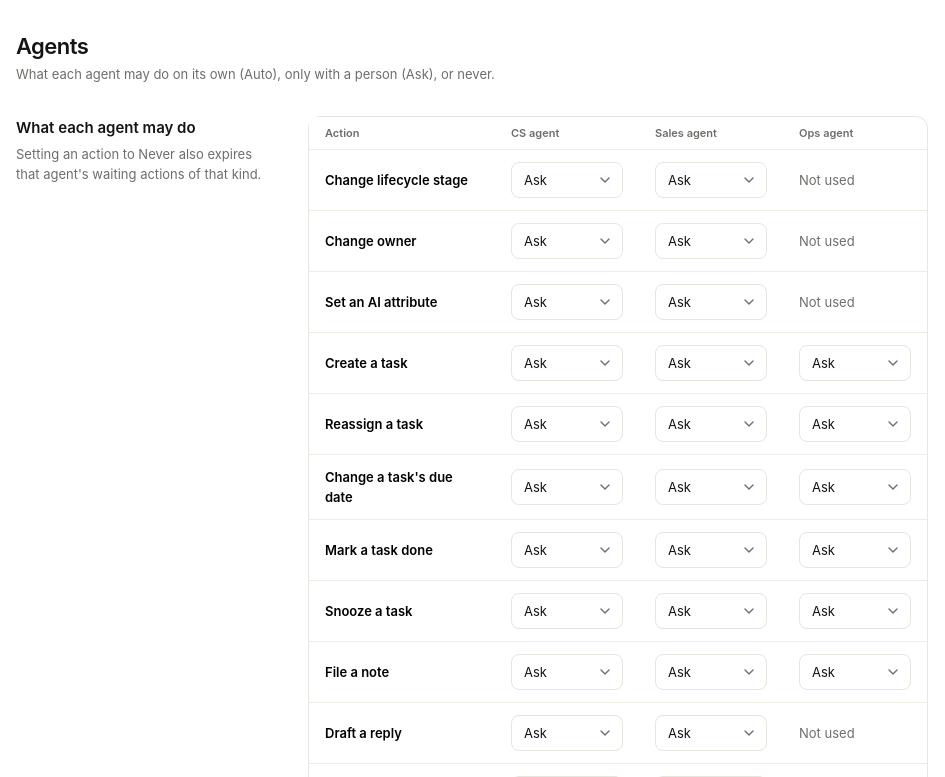
Scenario: Settings › Actions & approvals (spec §1.6, §1.8; Decision 6) › saves only the changed cells
Select "Auto" in the 1st dropdown named "Change lifecycle stage for the CS agent": (567, 180) [511,162,623,198]
(page scrolled)
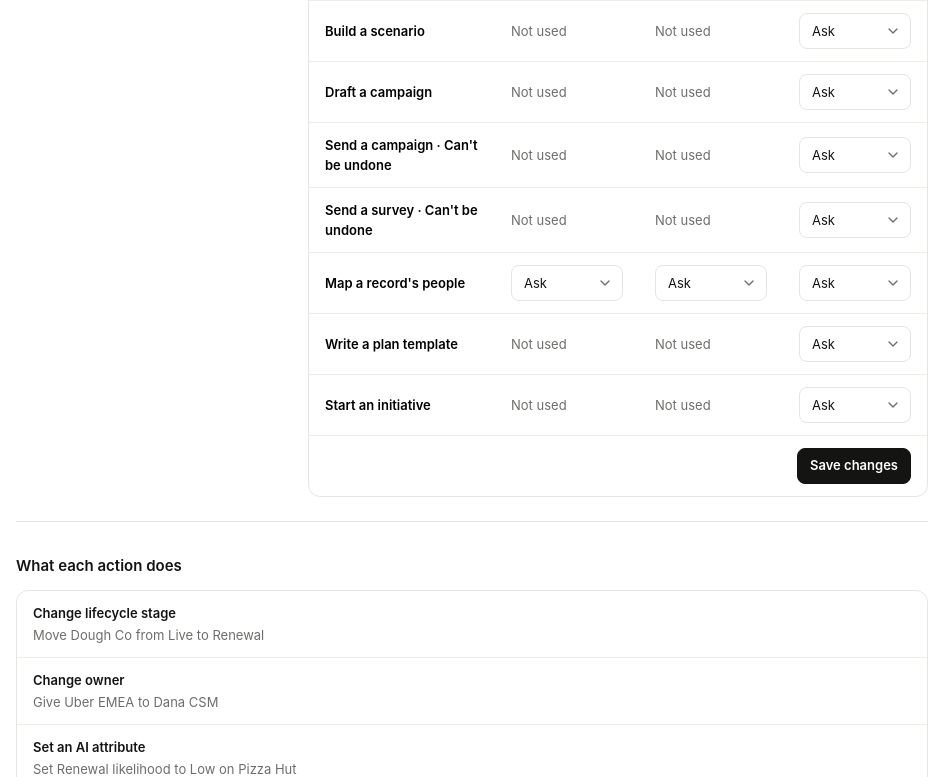
Select "Never" in the 9th dropdown named "Start an initiative for the Ops agent": (855, 405) [799,387,911,423]
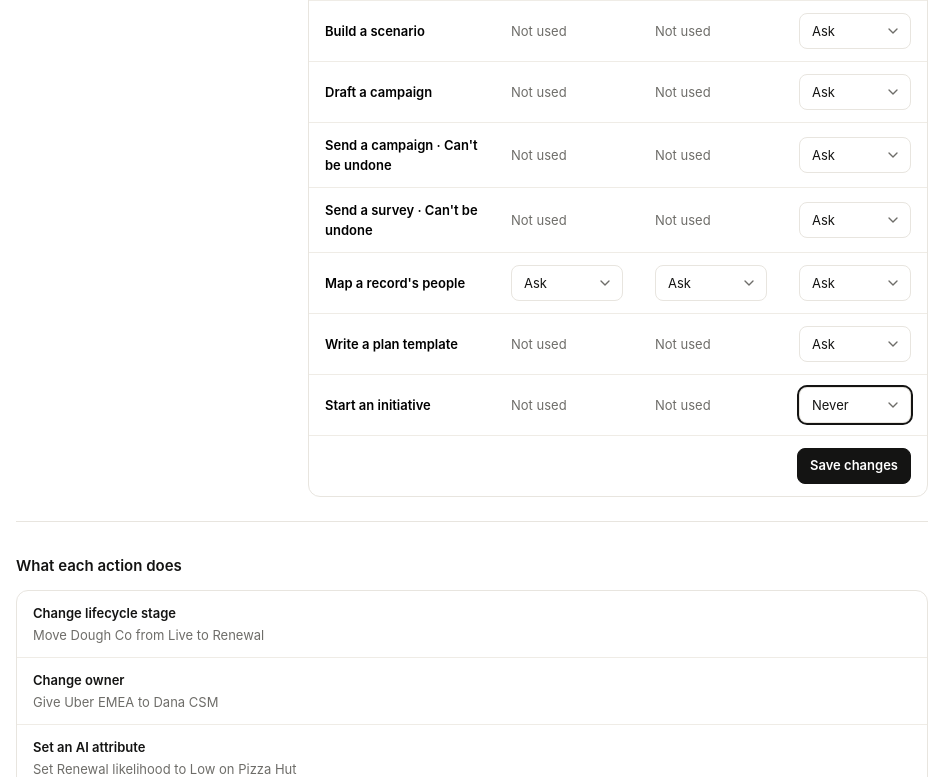
Click the button "Save changes": (854, 466) [797,448,911,484]
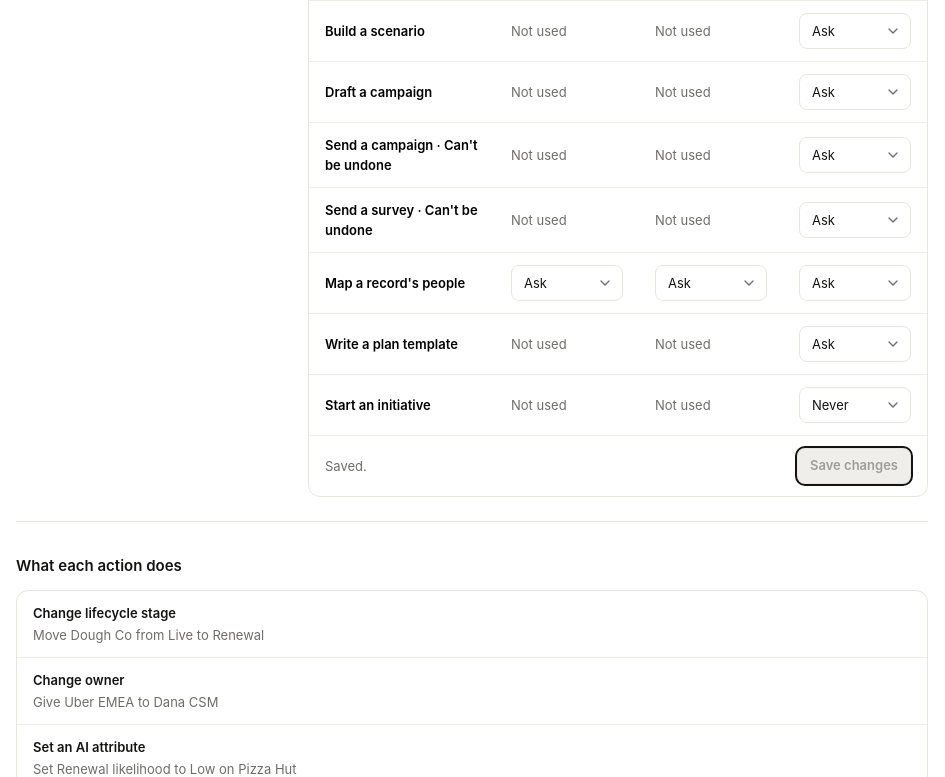
Check: the text "Saved." is shown, box [325,456,367,476]
